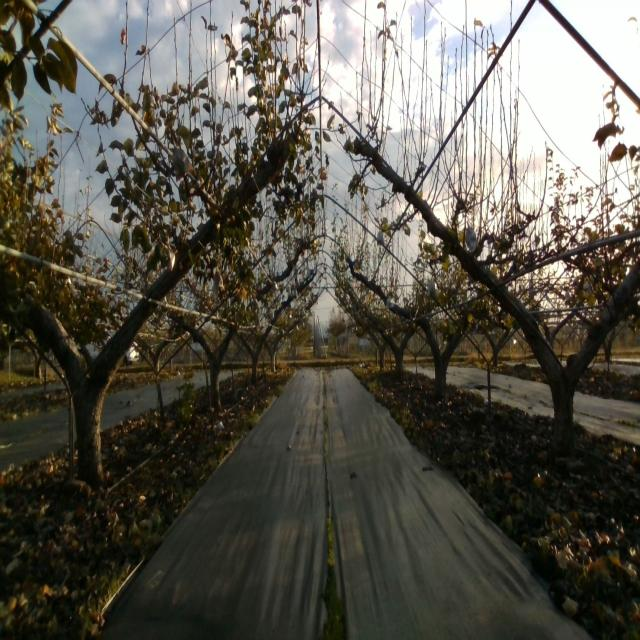pearbags: (172, 140, 195, 181), (465, 221, 477, 253), (428, 280, 438, 300)
